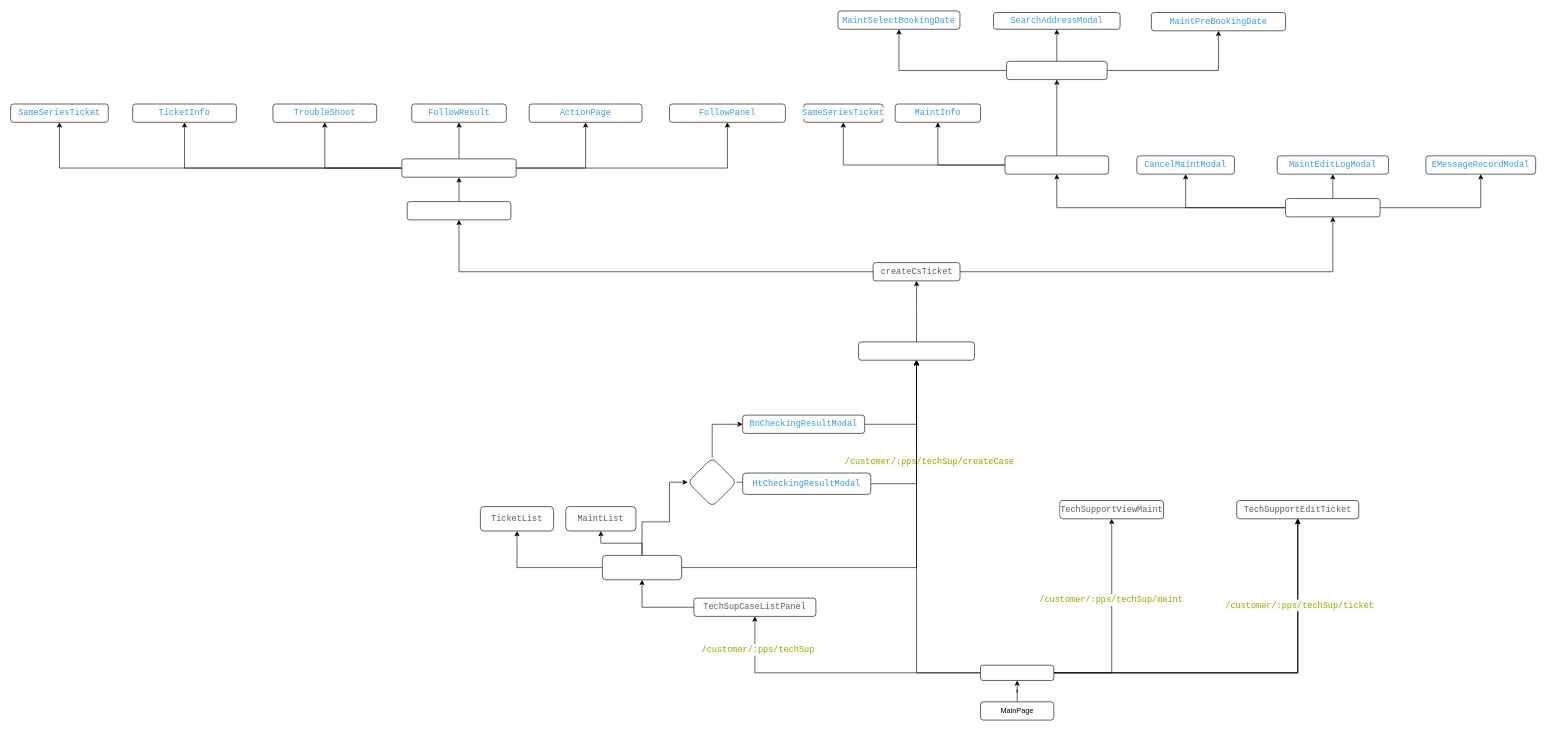
Image size: 1546x731. Some labels were removed from this diagram. Here are the shapes that lost their labels. From the top down, the centre of each, then its label:
At point (1056, 70): "CpeForm".
At point (458, 167): "TicketPanelContent".
At point (1056, 164): "MaintCpeContent".
At point (459, 210): "Ticket".
At point (1332, 207): "MaintCpe".
At point (916, 350): "TechSupportCreateCase".
At point (712, 482): "BN/HT?".
At point (642, 567): "TechSupListSel".
At point (1017, 672): "Router".
